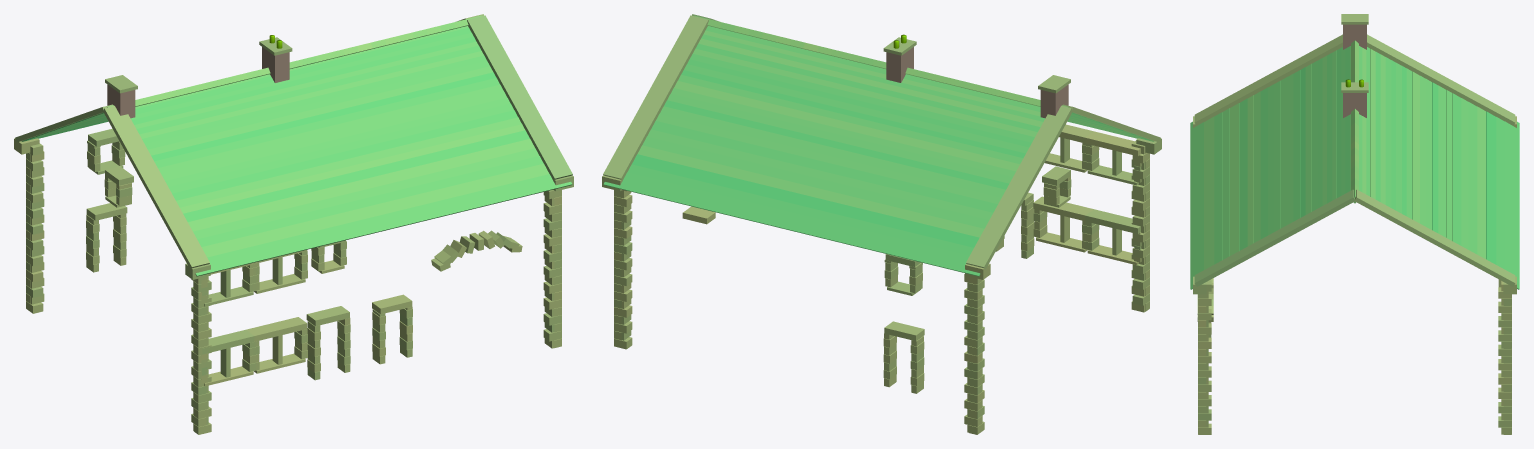
The model's file is SM_Bld_075_Stone.glb.
3 views of the same model, side by side, from view 1: azimuth 30°, elevation 25°; view 2: azimuth 150°, elevation 25°; view 3: azimuth 270°, elevation 25° (orthographic). The views are drawn at different scales.
Parts seen in each view (by area): view 1: SM_Bld_075_Stone; view 2: SM_Bld_075_Stone; view 3: SM_Bld_075_Stone.
Boxes of the visible parts, left/top/right/bottom form: SM_Bld_075_Stone: left=14, top=14, right=573, bottom=434; SM_Bld_075_Stone: left=602, top=14, right=1161, bottom=434; SM_Bld_075_Stone: left=1190, top=14, right=1519, bottom=434.
Size of the model in its own units: 15.13 by 11.13 by 12.48.
